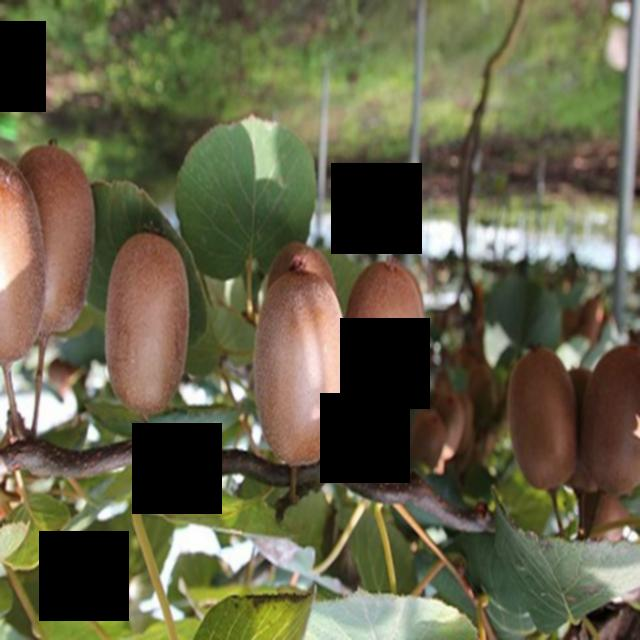kiwi: (11, 141, 101, 347), (254, 279, 350, 471), (104, 227, 196, 421), (342, 262, 433, 442), (1, 142, 56, 384), (509, 340, 590, 496), (583, 336, 640, 502), (566, 361, 604, 504), (262, 237, 343, 303), (408, 407, 449, 481), (437, 391, 467, 465)
